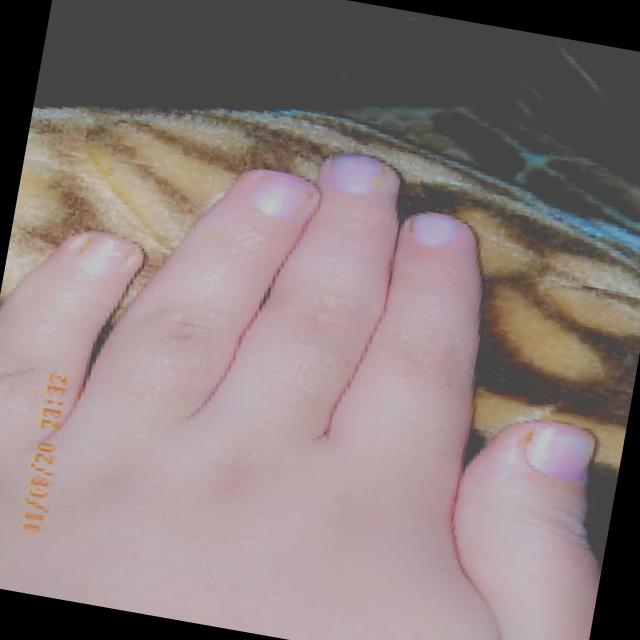Nail: (525, 422, 595, 482), (251, 171, 314, 219), (78, 233, 138, 278), (324, 154, 384, 194), (409, 212, 457, 246)
